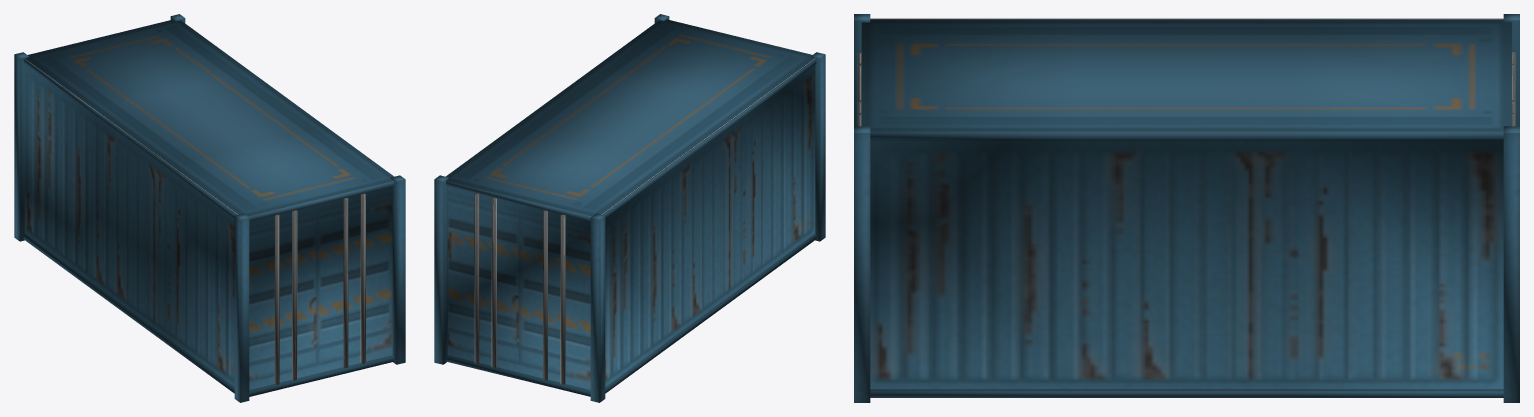
File: Container.fbx
3 renders of one model, left to right at view 1: azimuth 30°, elevation 25°; view 2: azimuth 150°, elevation 25°; view 3: azimuth 270°, elevation 25°, orthographic. The views are drawn at different scales.
Parts seen in each view (by area): view 1: ClosedContainer; view 2: ClosedContainer; view 3: ClosedContainer.
Part boxes in pixels (left/top/right/bottom): ClosedContainer: left=14, top=14, right=405, bottom=402; ClosedContainer: left=434, top=14, right=825, bottom=402; ClosedContainer: left=854, top=14, right=1519, bottom=402.
Bounding box in the file's own units: 221 × 234 × 523.
